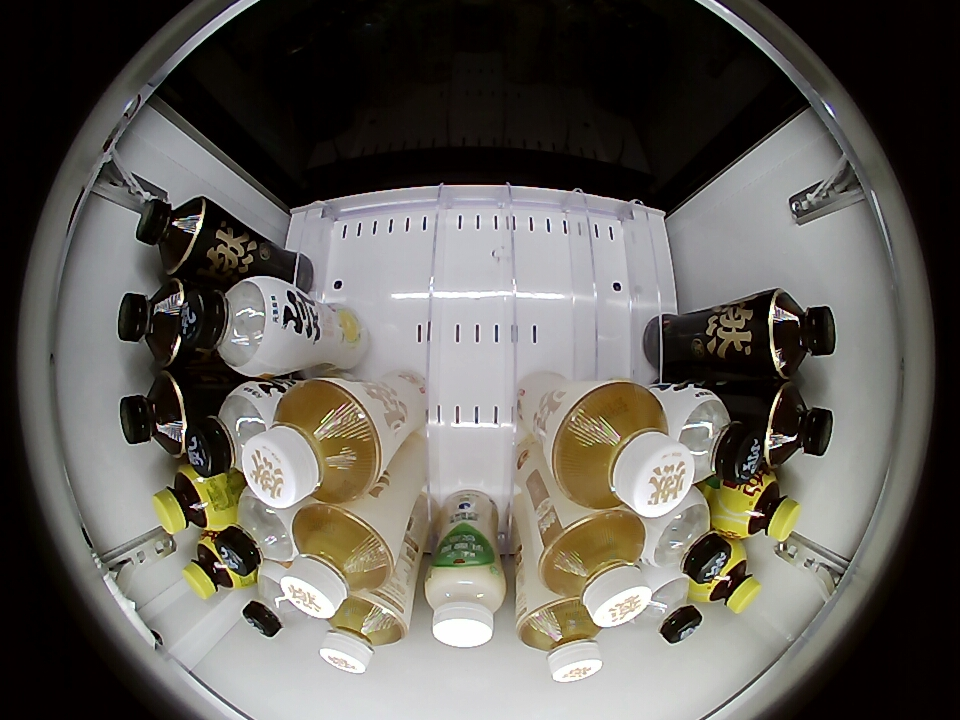rancha-1: (117, 278, 189, 366), (765, 290, 837, 378), (762, 383, 834, 467), (119, 371, 188, 456), (135, 195, 208, 274)
rancha-2: (549, 381, 696, 517), (242, 378, 384, 508), (536, 509, 651, 628), (281, 504, 395, 619), (517, 596, 605, 683), (321, 593, 408, 675)
weitaningmeng-bottle: (724, 471, 802, 543), (153, 464, 228, 534), (697, 546, 762, 614), (183, 534, 247, 600)
yousuanru: (425, 559, 506, 648)
yuanqishui: (180, 276, 291, 377), (662, 386, 762, 484), (186, 382, 282, 476), (637, 490, 731, 582), (214, 491, 300, 575), (627, 570, 702, 644), (243, 561, 308, 637)
